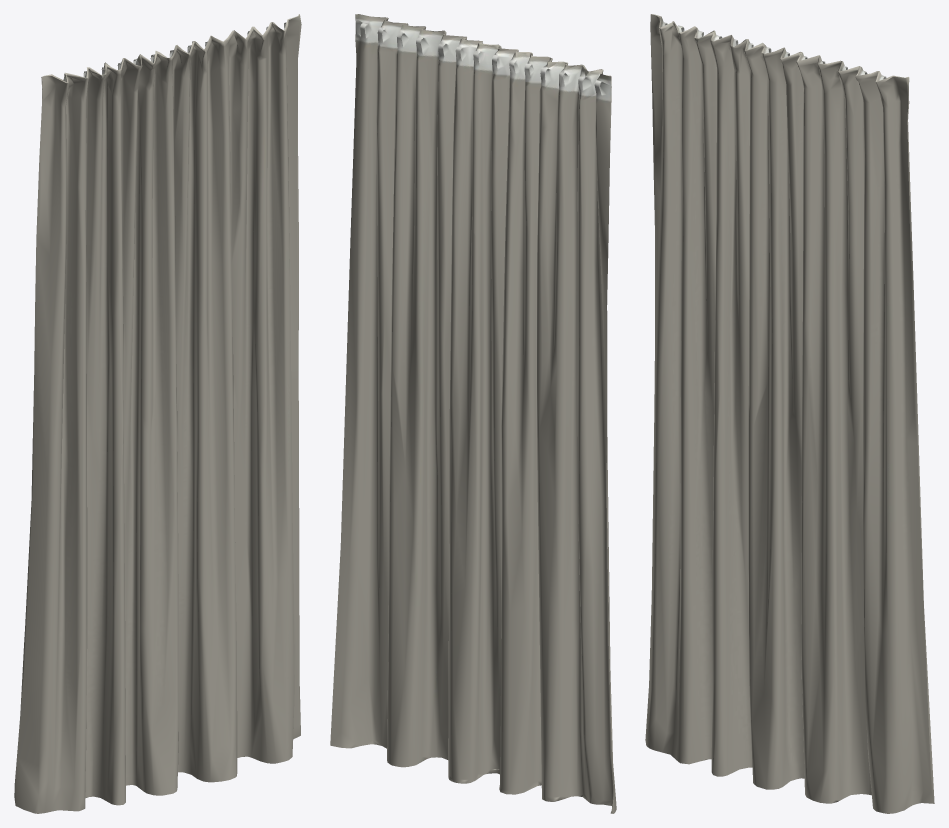
The model's file is bengta_zasona_zaciemniajaca_1_szt_30602090.glb.
3 renders of one model, left to right at view 1: azimuth 30°, elevation 25°; view 2: azimuth 150°, elevation 25°; view 3: azimuth 330°, elevation 25°, orthographic.
Parts seen in each view (by area): view 1: bengta_zasona_zaciemniajaca_1_szt_30602090; view 2: bengta_zasona_zaciemniajaca_1_szt_30602090; view 3: bengta_zasona_zaciemniajaca_1_szt_30602090.
Part boxes in pixels (x1=…): bengta_zasona_zaciemniajaca_1_szt_30602090: x1=14, y1=14, x2=301, y2=813; bengta_zasona_zaciemniajaca_1_szt_30602090: x1=330, y1=14, x2=616, y2=813; bengta_zasona_zaciemniajaca_1_szt_30602090: x1=645, y1=14, x2=934, y2=813.
Bounding box in the file's own units: 1.24 × 3.06 × 0.1683.
Materials: 1 (1 with a texture image).
